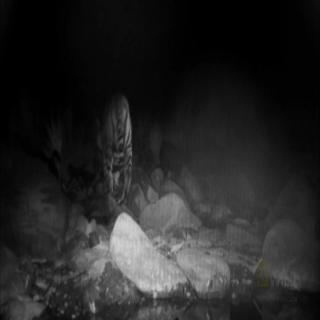Tiger: (89, 69, 142, 200)
